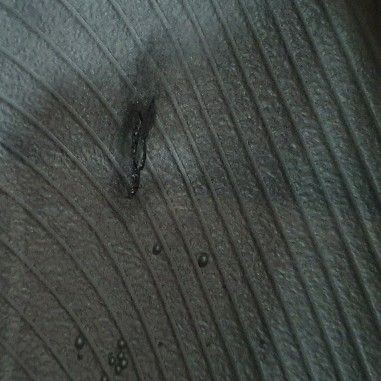CBU: (108, 91, 165, 206), (105, 336, 128, 377), (194, 250, 209, 270), (150, 241, 165, 258), (73, 335, 86, 351)
